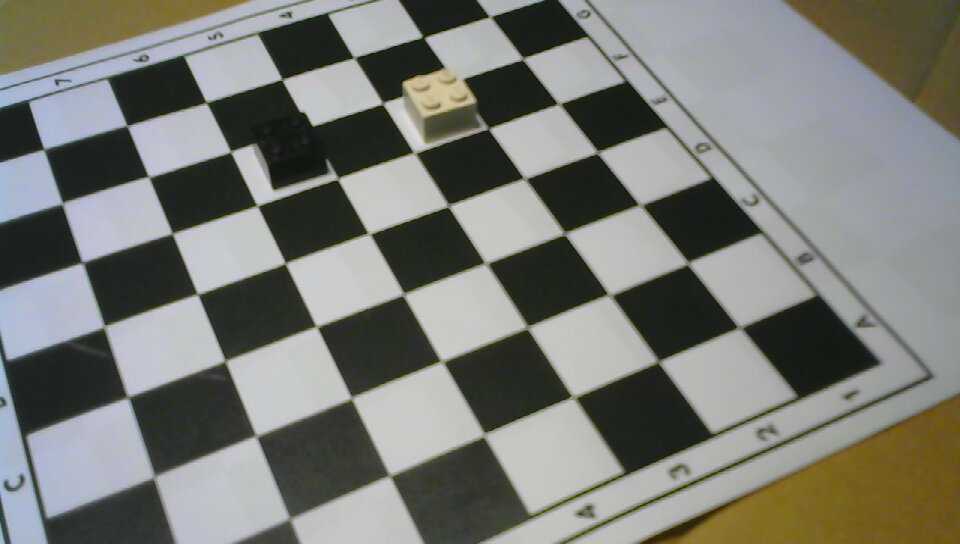bp: (252, 111, 326, 189)
wp: (402, 68, 478, 140)
